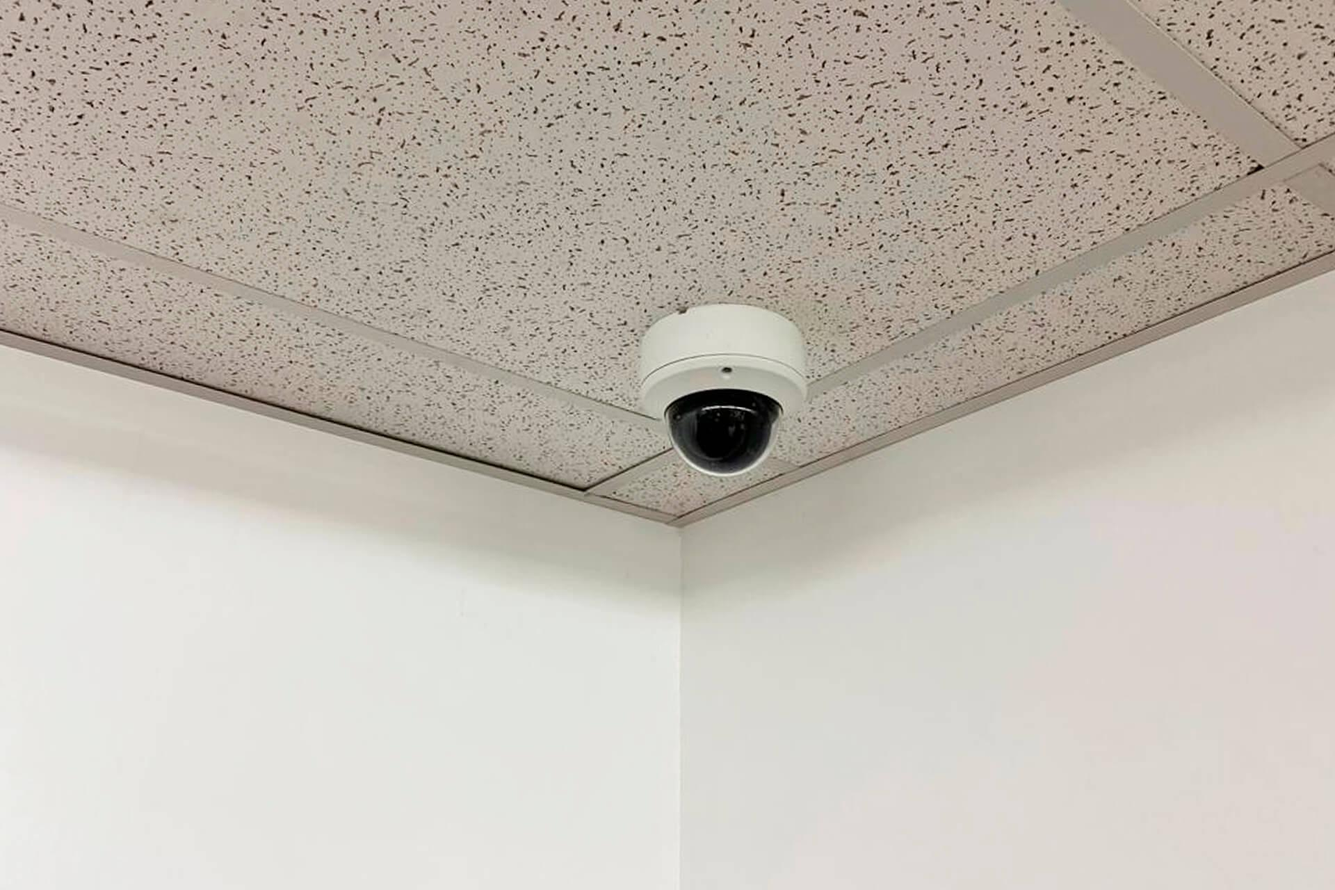CCTV: (641, 304, 808, 477)
